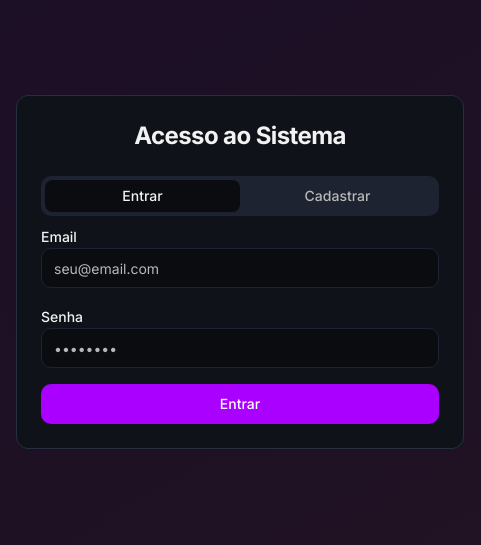
Scenario: Auth Page › Tab switching › should switch back to signin tab
Click the tab "Cadastrar" at (338,196), box [240,180,435,212]
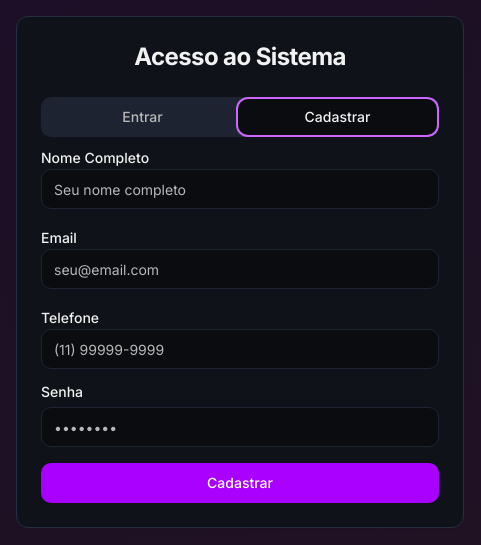
Expected: the field with placeholder "Seu nome completo" is shown, [41,169,439,209]
Click the tab "Entrar" at (142,117), box [45,101,240,133]
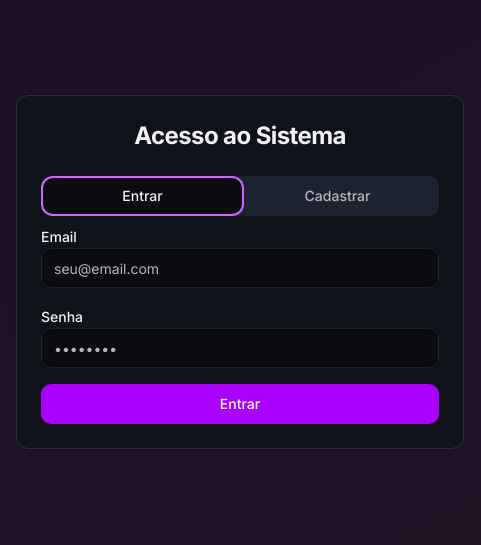
Expected: the button "Entrar" is shown, [41,384,439,424]
